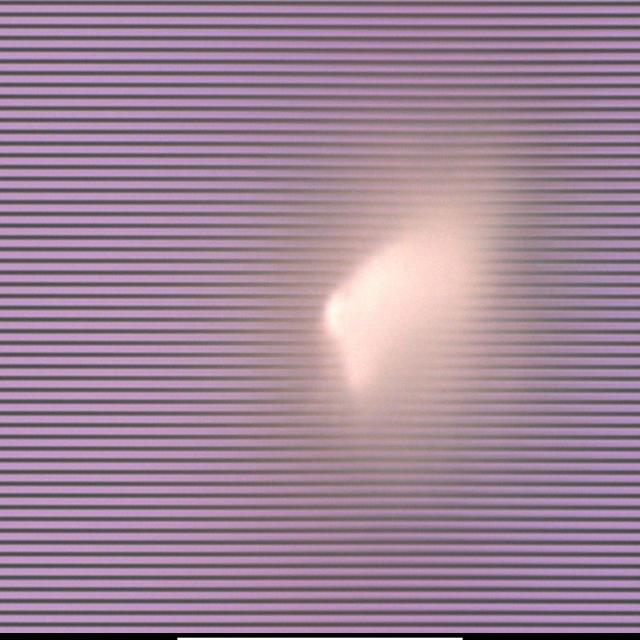nonvisual: (295, 124, 531, 452)
